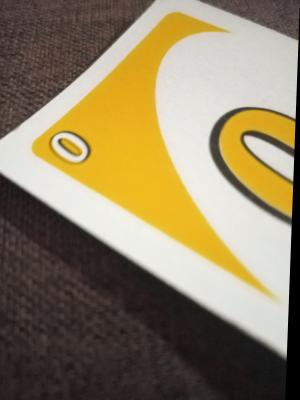num_0: (42, 102, 130, 205)
